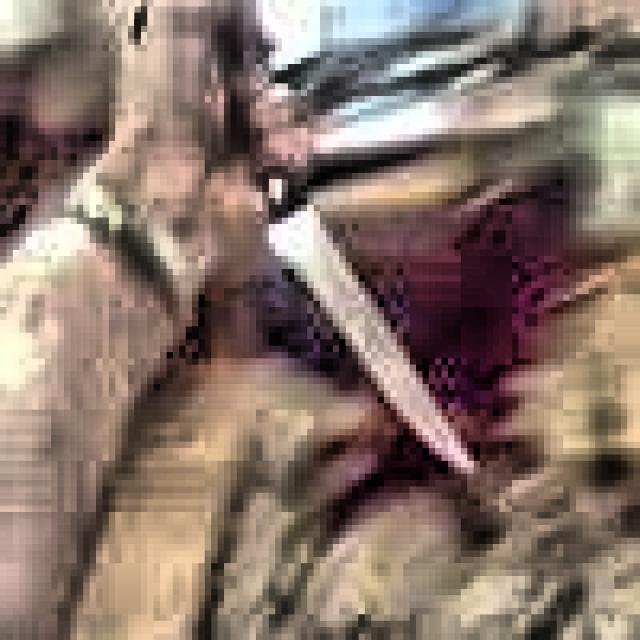knife: (266, 171, 480, 479)
